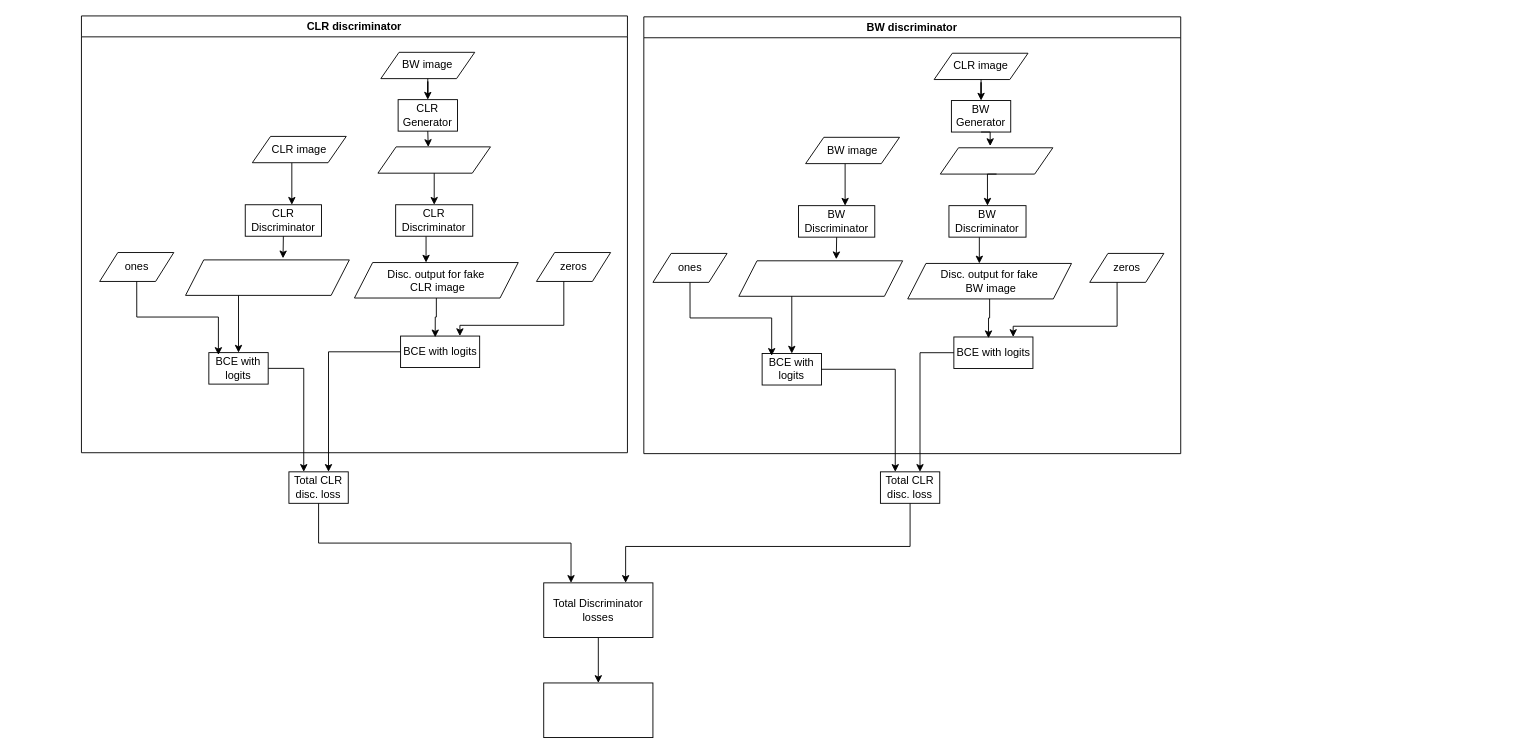
This 1514x753 diagram has some shape labels left out. Here are the shapes that lost their labels. From the top down, the centre of each, then its label:
At (x=433, y=159): "Fake CLR image".
At (x=996, y=160): "Fake BW image".
At (x=267, y=277): "Disc. output for CLR image".
At (x=820, y=278): "Disc. output for BW image".
At (x=598, y=710): "Adam Optimizer".
